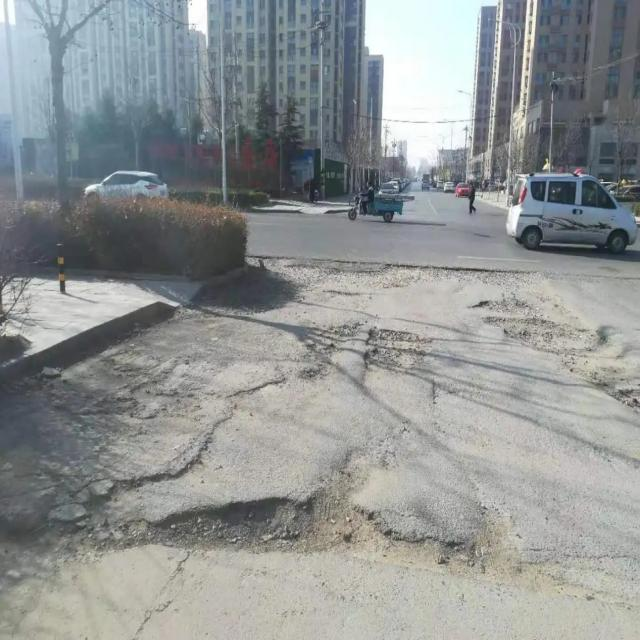Pothole: (93, 492, 605, 600), (470, 299, 640, 425), (266, 257, 545, 294), (363, 326, 430, 376)
